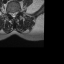CCS_normal: (12, 10, 14, 19)
LFS_normal: (16, 8, 18, 16)
LLS_normal: (14, 9, 16, 18)
RFS_normal: (8, 9, 10, 16)
RLS_normal: (10, 10, 12, 18)
